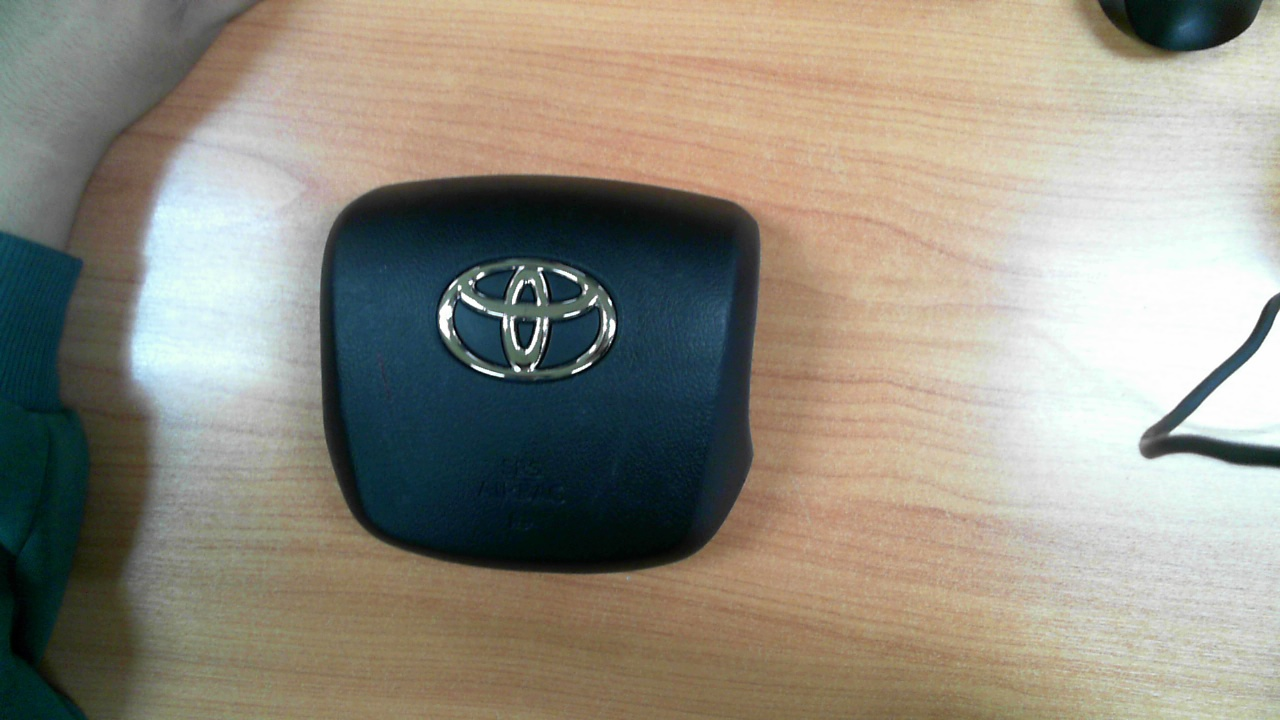Airbag: (318, 173, 762, 576)
Toyota: (437, 258, 617, 381)
